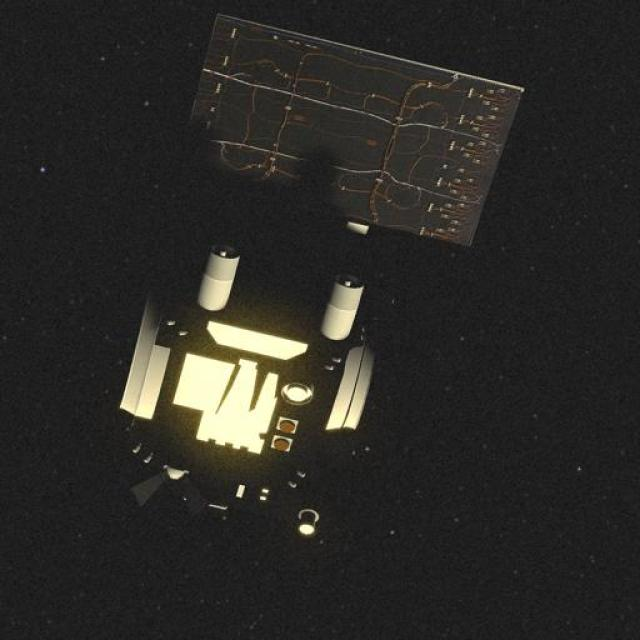proba_3_csc: (93, 39, 507, 560)
